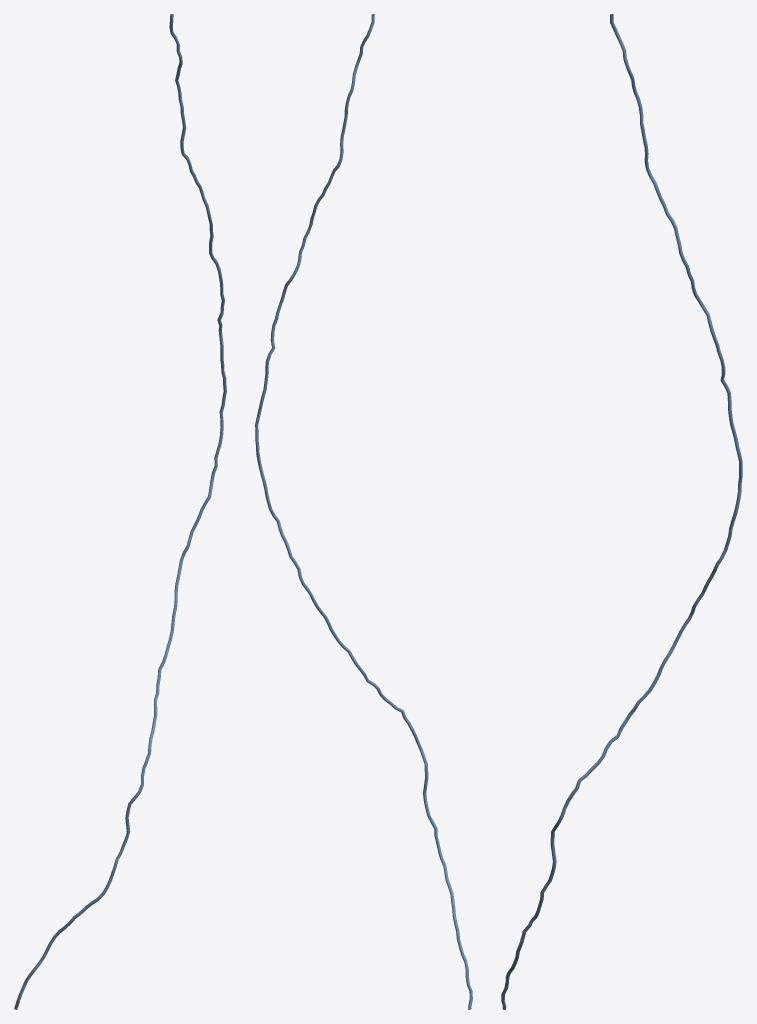
File: sweep85.fbx
3 renders of one model, left to right at view 1: azimuth 30°, elevation 25°; view 2: azimuth 150°, elevation 25°; view 3: azimuth 330°, elevation 25°, orthographic. The views are drawn at different scales.
Visible parts, largest first — view 1: sweep85; view 2: sweep85; view 3: sweep85.
Part boxes in pixels (box(x1,y1,x2,y2)): sweep85: box(14, 14, 226, 1009); sweep85: box(255, 14, 472, 1009); sweep85: box(501, 14, 742, 1009).
Size of the model in its own units: 1.46 by 6.27 by 0.5302.
